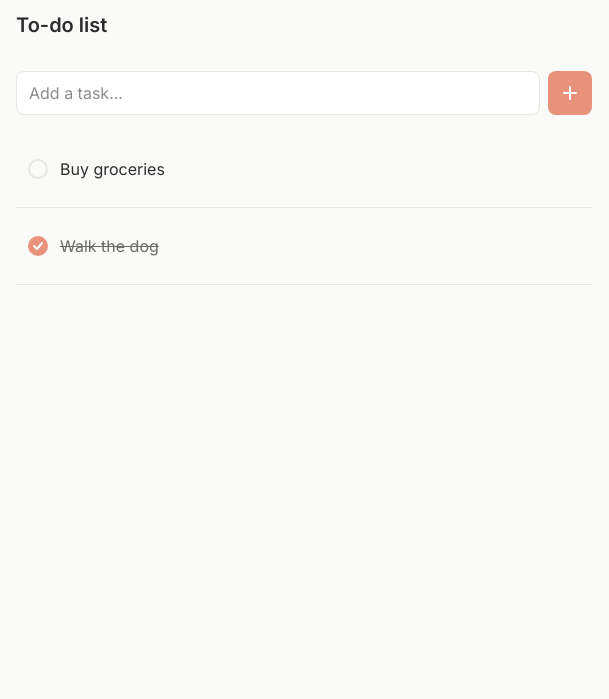
Test: App › shows toast when toggle fails
The width and height of the screenshot is (609, 699).
Expected: the text "Buy groceries" is shown, [60, 159, 165, 179]
What coordinates should you click on to do the following:
click the checkbox named "Mark Buy groceries as complete"
I would click on:
 (38, 169)
Its box is [16, 147, 60, 191].
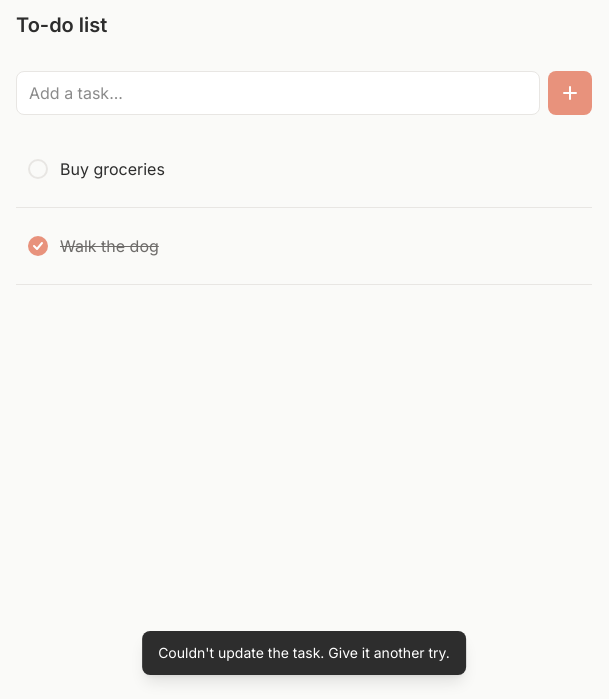
Expected: the message "Couldn't update the task. Give it another try." is shown, [142, 631, 466, 675]
Expected: the message reads "Couldn't update the task. Give it another try.", [158, 644, 450, 661]
